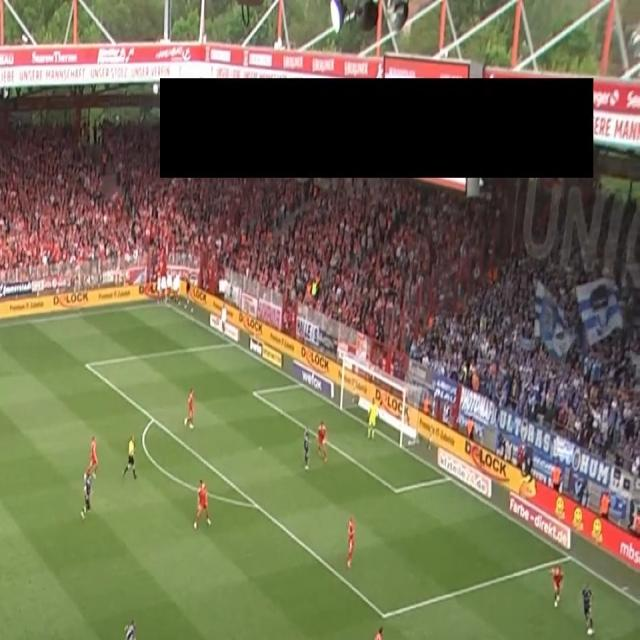ball: (587, 626, 593, 638)
